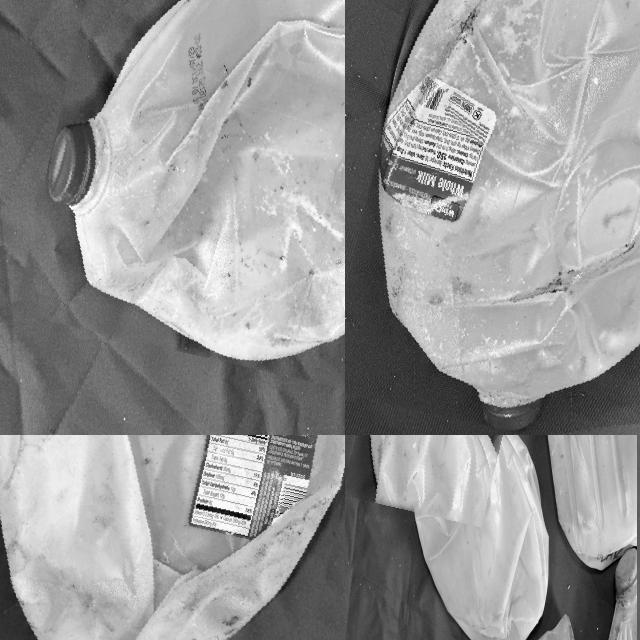milk-jug: (353, 0, 640, 435), (36, 0, 345, 383), (0, 435, 345, 640), (401, 435, 548, 640), (361, 435, 543, 521), (538, 435, 634, 553), (601, 554, 639, 640)
